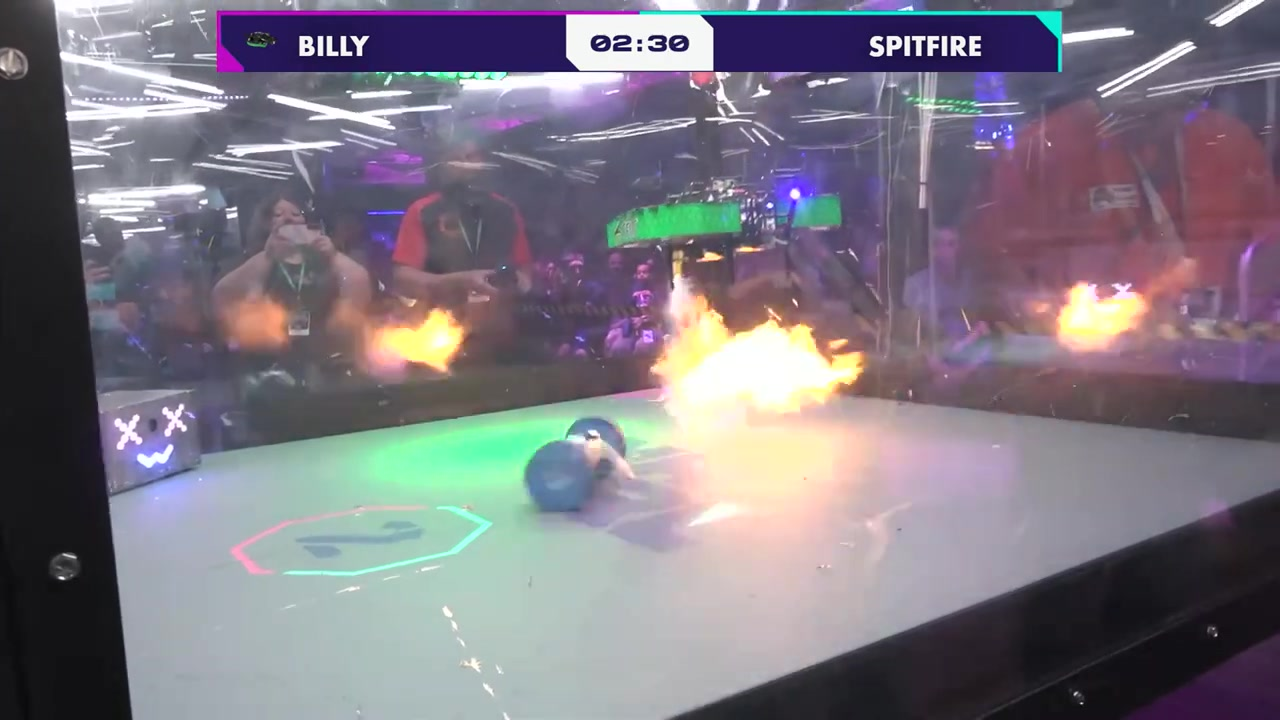combatbot: (528, 414, 637, 508)
housebot: (91, 389, 204, 499)
